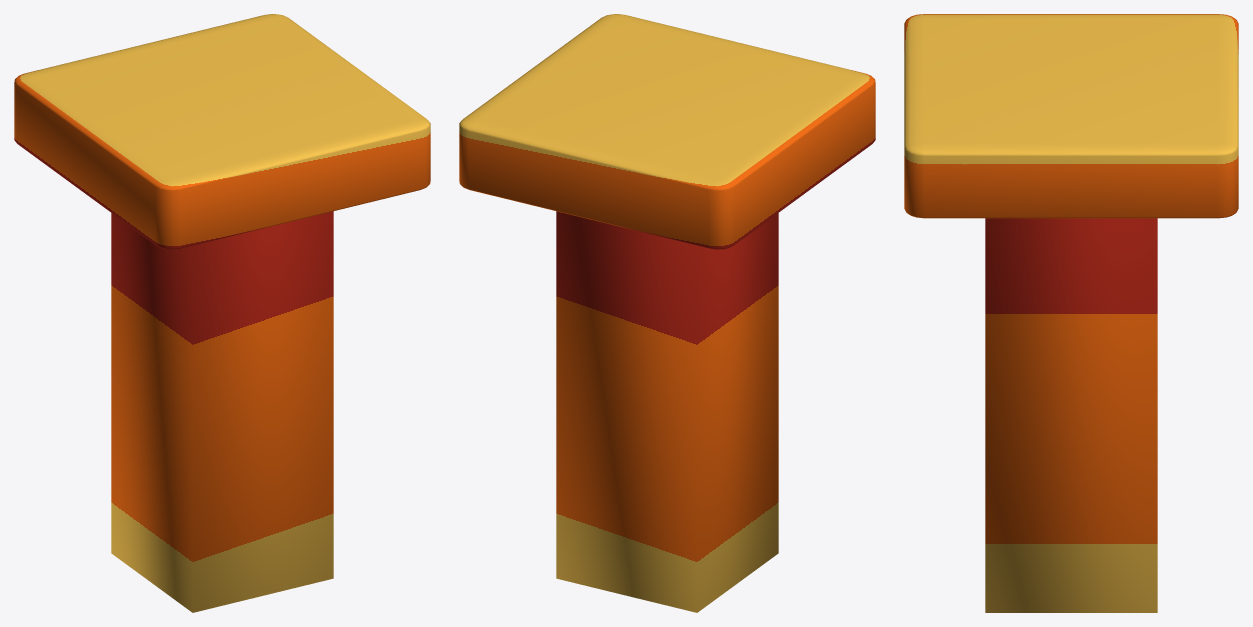
The model's file is platform3.fbx.
3 views of the same model, side by side, from view 1: azimuth 30°, elevation 25°; view 2: azimuth 150°, elevation 25°; view 3: azimuth 270°, elevation 25° (orthographic). The views are drawn at different scales.
Parts seen in each view (by area): view 1: Cube.003; view 2: Cube.003; view 3: Cube.003.
Part boxes in pixels (x1,y1,x2,y2): Cube.003: [14, 14, 430, 612]; Cube.003: [459, 14, 875, 612]; Cube.003: [904, 14, 1238, 612].
Size of the model in its own units: 388 by 634 by 388.
1 material, 1 textured.
